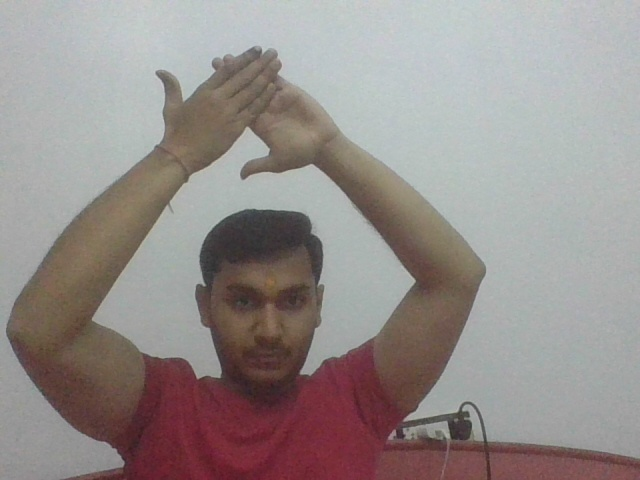H: (150, 45, 339, 183)
